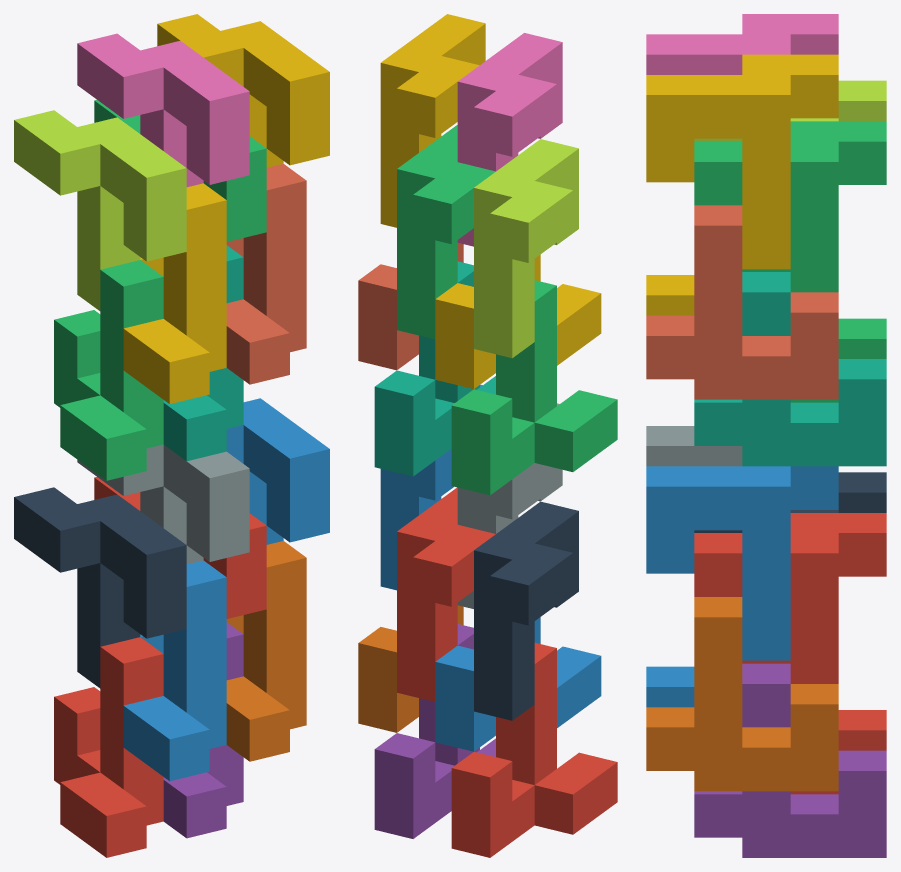
The model's file is tiling.obj.
3 renders of one model, left to right at view 1: azimuth 30°, elevation 25°; view 2: azimuth 150°, elevation 25°; view 3: azimuth 270°, elevation 25°, orthographic. The views are drawn at different scales.
Visible parts, largest first — view 1: copy_2_domain_3, copy_2_domain_1, copy_1_domain_1, copy_1_domain_3, copy_2_domain_4, copy_1_domain_2, copy_1_domain_4, copy_1_domain_8, copy_1_domain_6, copy_2_domain_8, copy_2_domain_2, copy_2_domain_6 (+4 smaller); view 2: copy_1_domain_1, copy_1_domain_3, copy_2_domain_1, copy_2_domain_3, copy_2_domain_5, copy_2_domain_7, copy_2_domain_8, copy_2_domain_4, copy_1_domain_7, copy_1_domain_5, copy_1_domain_2, copy_1_domain_4 (+4 smaller); view 3: copy_2_domain_8, copy_1_domain_8, copy_1_domain_6, copy_2_domain_6, copy_1_domain_7, copy_1_domain_5, copy_2_domain_7, copy_2_domain_5, copy_2_domain_4, copy_2_domain_2, copy_2_domain_3, copy_1_domain_1 (+4 smaller).
Part boxes in pixels (x1,y1,x2,y2): copy_2_domain_3: (14, 110, 186, 310); copy_2_domain_1: (14, 487, 186, 688); copy_1_domain_1: (54, 637, 163, 857); copy_1_domain_3: (54, 260, 163, 480); copy_2_domain_4: (77, 33, 249, 187); copy_1_domain_2: (123, 560, 226, 781); copy_1_domain_4: (123, 183, 226, 403); copy_1_domain_8: (226, 164, 306, 384); copy_1_domain_6: (226, 541, 306, 761); copy_2_domain_8: (157, 14, 329, 167); copy_2_domain_2: (77, 444, 249, 564); copy_2_domain_6: (226, 398, 329, 544); copy_1_domain_1: (451, 643, 617, 857); copy_1_domain_3: (451, 280, 617, 495); copy_2_domain_1: (474, 501, 578, 720); copy_2_domain_3: (474, 139, 578, 358); copy_2_domain_5: (397, 487, 495, 701); copy_2_domain_7: (397, 125, 495, 339); copy_2_domain_8: (380, 14, 485, 227); copy_2_domain_4: (457, 33, 562, 246); copy_1_domain_7: (374, 261, 495, 476); copy_1_domain_5: (374, 624, 495, 838); copy_1_domain_2: (435, 617, 601, 751); copy_1_domain_4: (435, 254, 601, 388); copy_2_domain_8: (646, 54, 838, 269); copy_1_domain_8: (646, 205, 838, 399); copy_1_domain_6: (646, 597, 838, 791); copy_2_domain_6: (646, 466, 838, 660); copy_1_domain_7: (694, 272, 886, 466); copy_1_domain_5: (694, 663, 886, 857); copy_2_domain_7: (694, 121, 886, 292); copy_2_domain_5: (694, 513, 886, 683); copy_2_domain_4: (646, 14, 838, 74); copy_2_domain_2: (646, 426, 742, 466); copy_2_domain_3: (694, 80, 886, 141); copy_1_domain_1: (742, 660, 886, 794).
Bounding box in the file's own units: 5 × 18 × 5.
